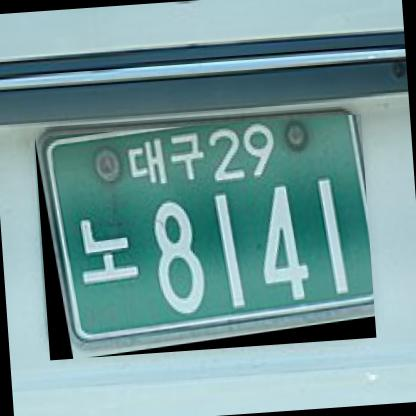Plates: (35, 114, 378, 361)
